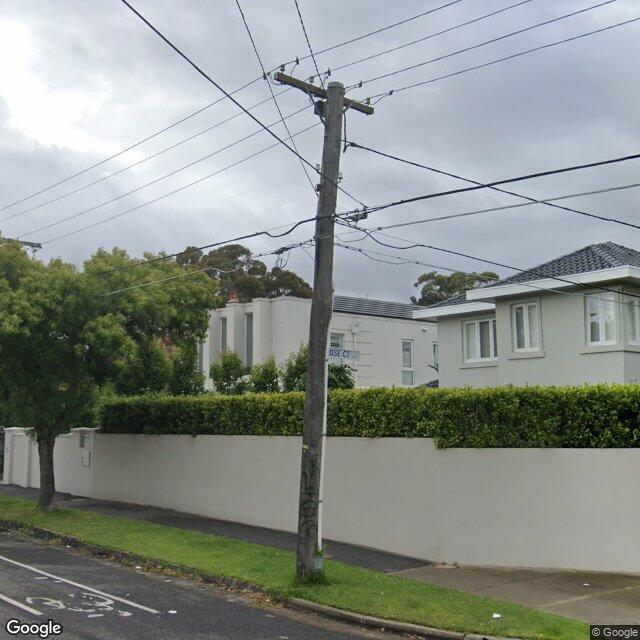crossarm: (274, 72, 374, 116), (0, 237, 42, 247)
timber-pole: (296, 82, 345, 585)
